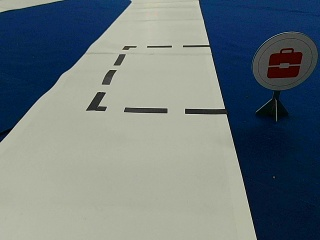company: (253, 32, 317, 89)
